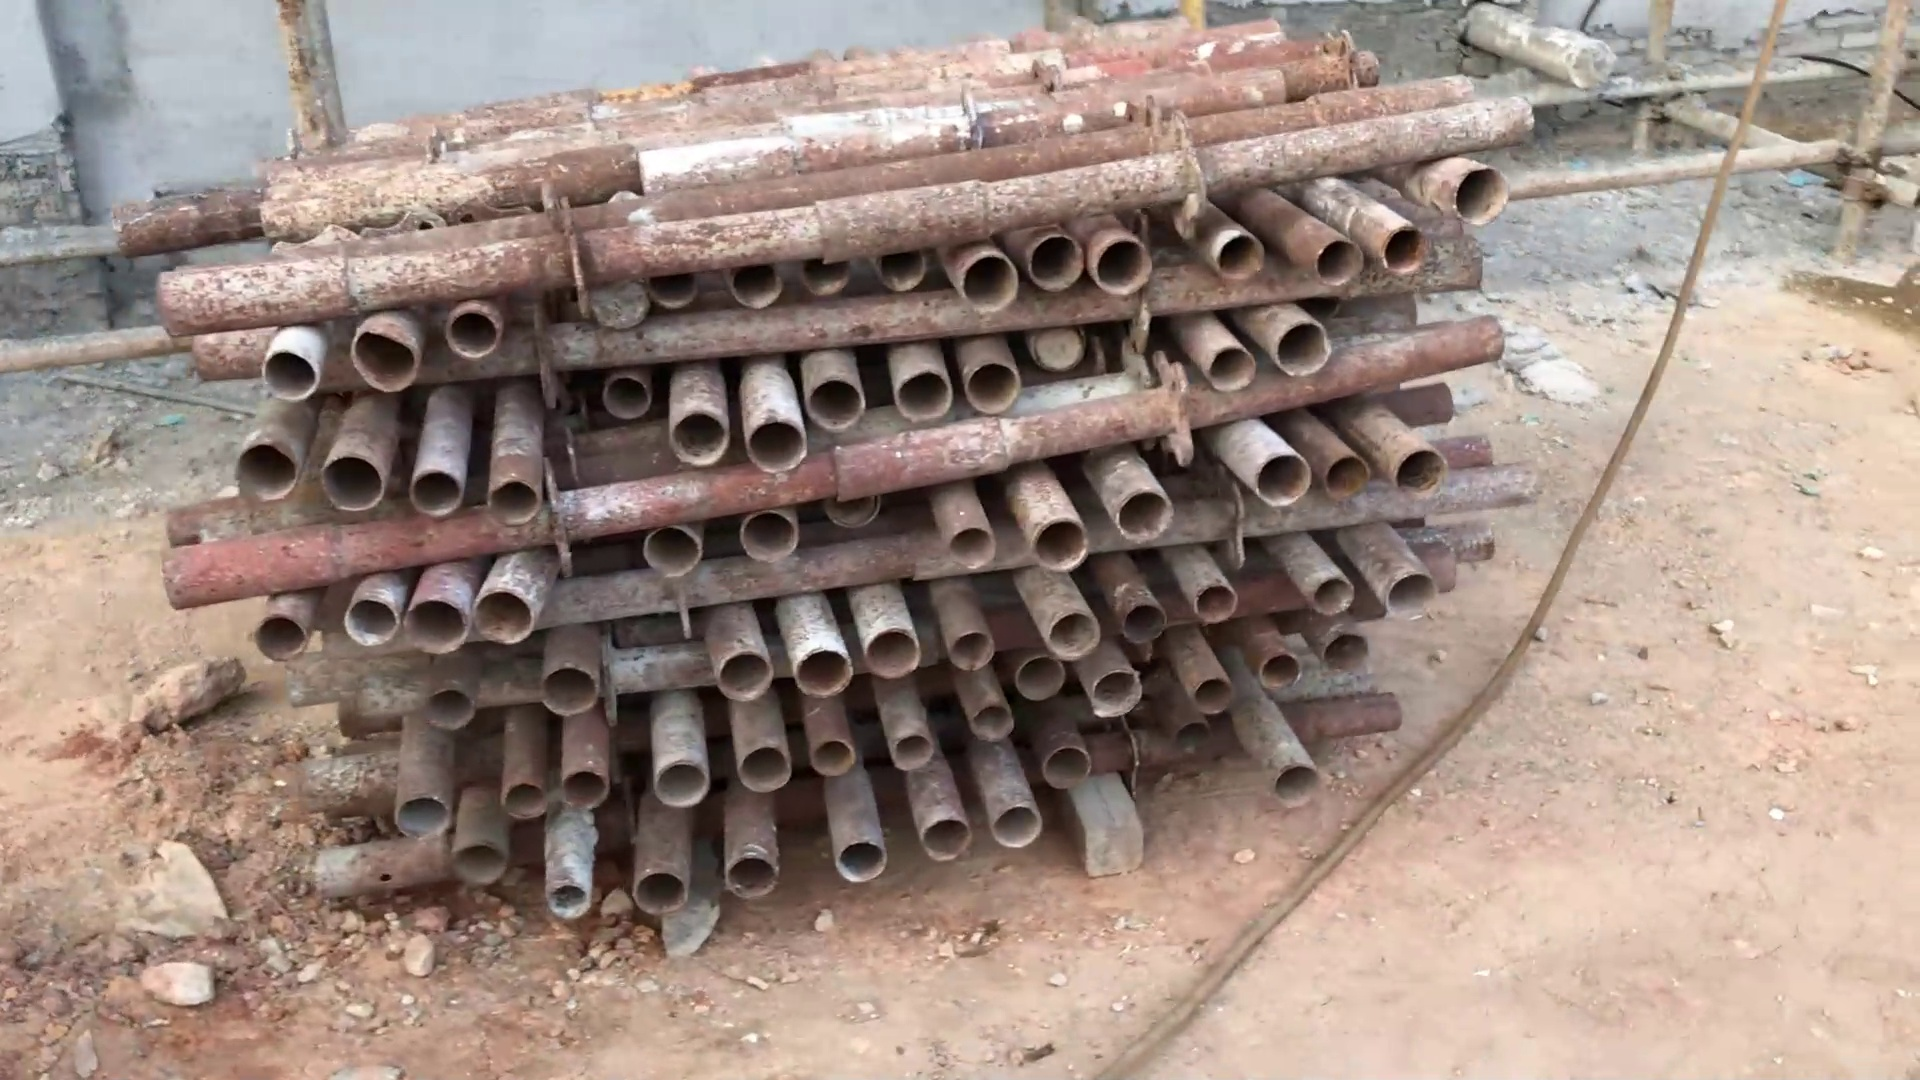scaffold: (96, 7, 1569, 967)
